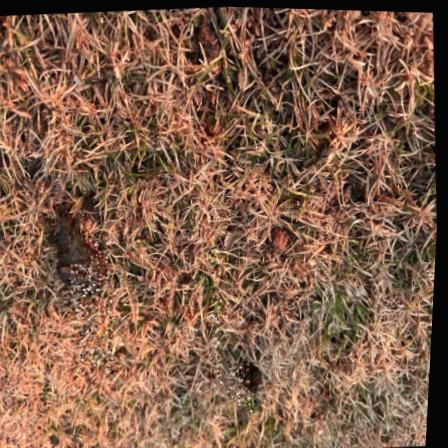dog-poop: (51, 211, 114, 305), (238, 360, 274, 393)
